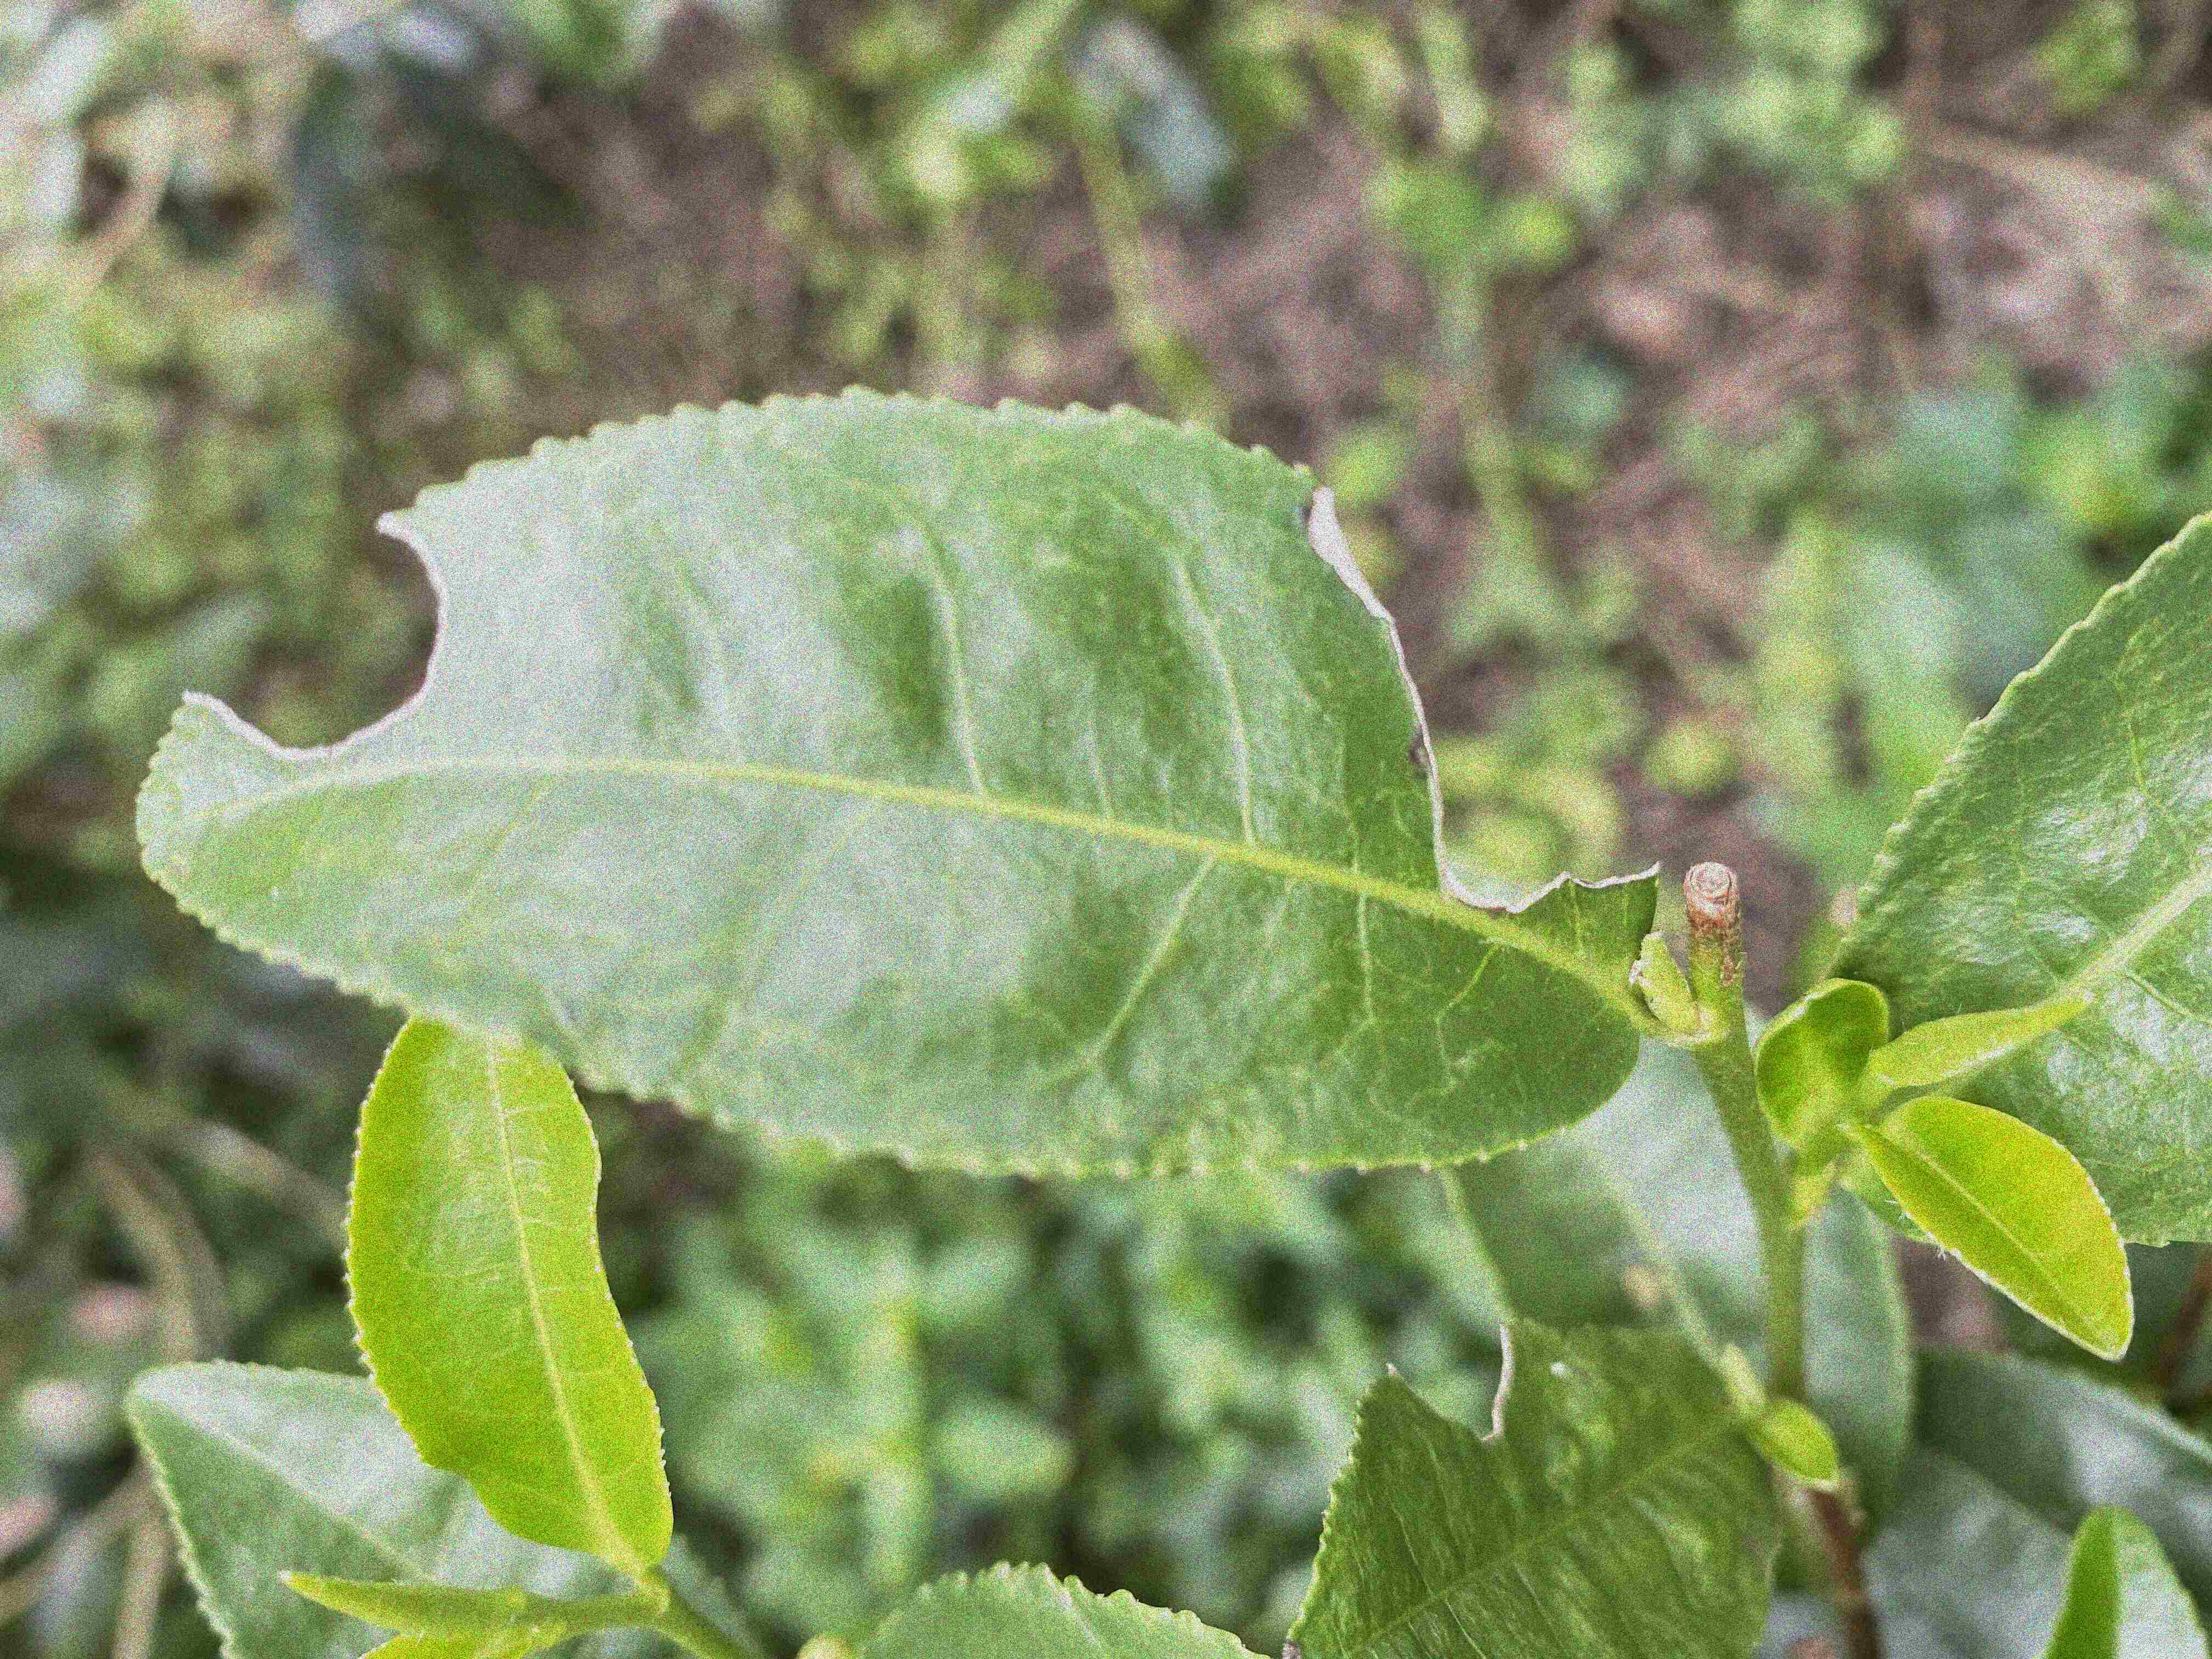chihuo_high: (134, 380, 1663, 1182)
chihuo_low: (1298, 1319, 1780, 1656)
healthy: (340, 1007, 678, 1574), (1855, 1094, 2137, 1358)
